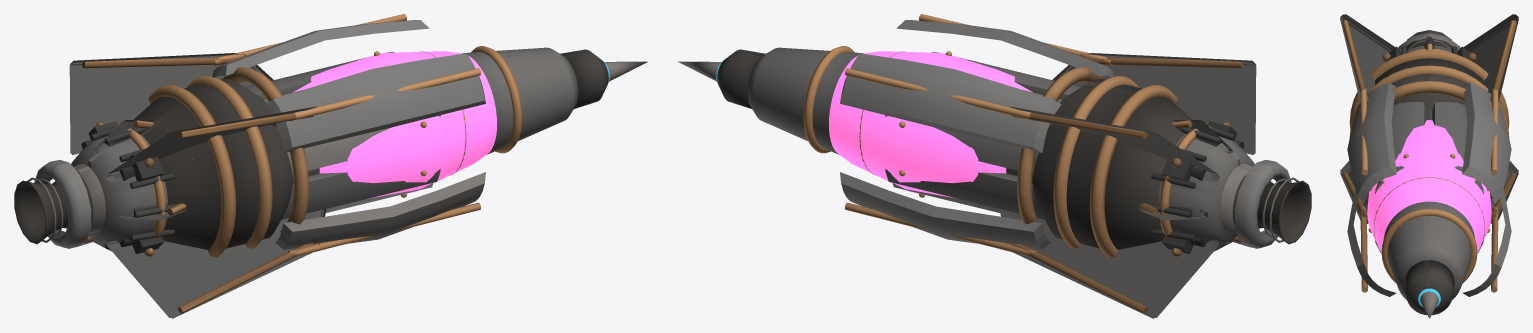
File: projectiles.glb
3 views of the same model, side by side, from view 1: azimuth 30°, elevation 25°; view 2: azimuth 150°, elevation 25°; view 3: azimuth 270°, elevation 25° (orthographic). The views are drawn at different scales.
Parts seen in each view (by area): view 1: plasma_capsule, hydra_missile, rail_dart; view 2: plasma_capsule, hydra_missile, rail_dart; view 3: plasma_capsule, hydra_missile, rail_dart.
Boxes of the visible parts, box(x1,y1,x2,y2) form: plasma_capsule: box(133, 14, 496, 257); hydra_missile: box(14, 46, 609, 318); rail_dart: box(73, 61, 647, 251); plasma_capsule: box(829, 14, 1192, 257); hydra_missile: box(716, 46, 1311, 318); rail_dart: box(678, 61, 1252, 251); plasma_capsule: box(1347, 50, 1511, 296); hydra_missile: box(1340, 14, 1518, 315); rail_dart: box(1420, 36, 1438, 318).
Size of the model in its own units: 1.7 by 0.4883 by 0.4883.
